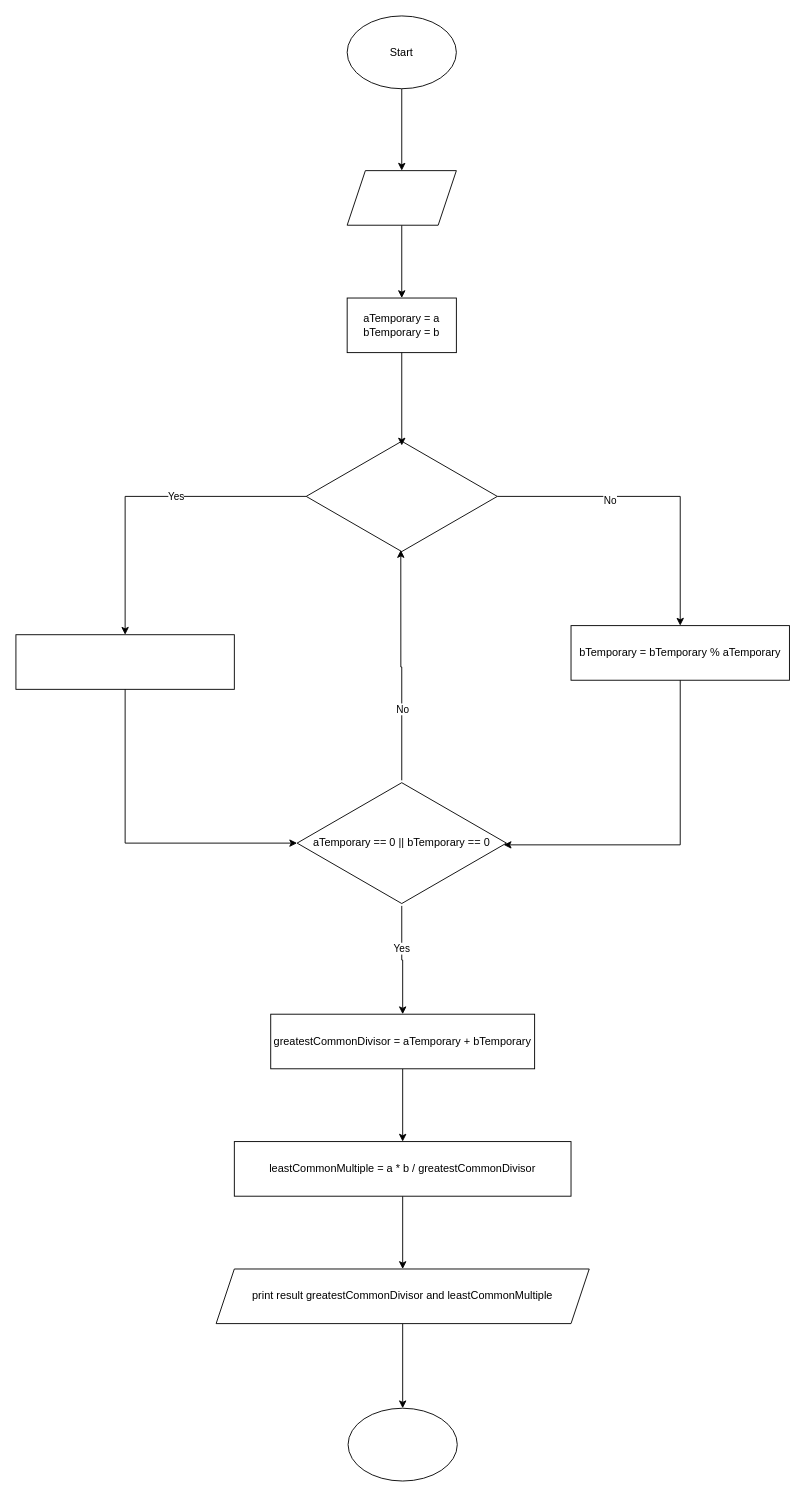
This 805x1497 diagram has some shape labels left out. The centre of each missing label's shape, as x and y in pixels:
aTemporary = bTemporary % aTemporary: (x=124, y=661)
aTemporary >= bTemporary: (x=401, y=496)
Finish: (x=402, y=1444)
Input int a, b: (x=401, y=197)
